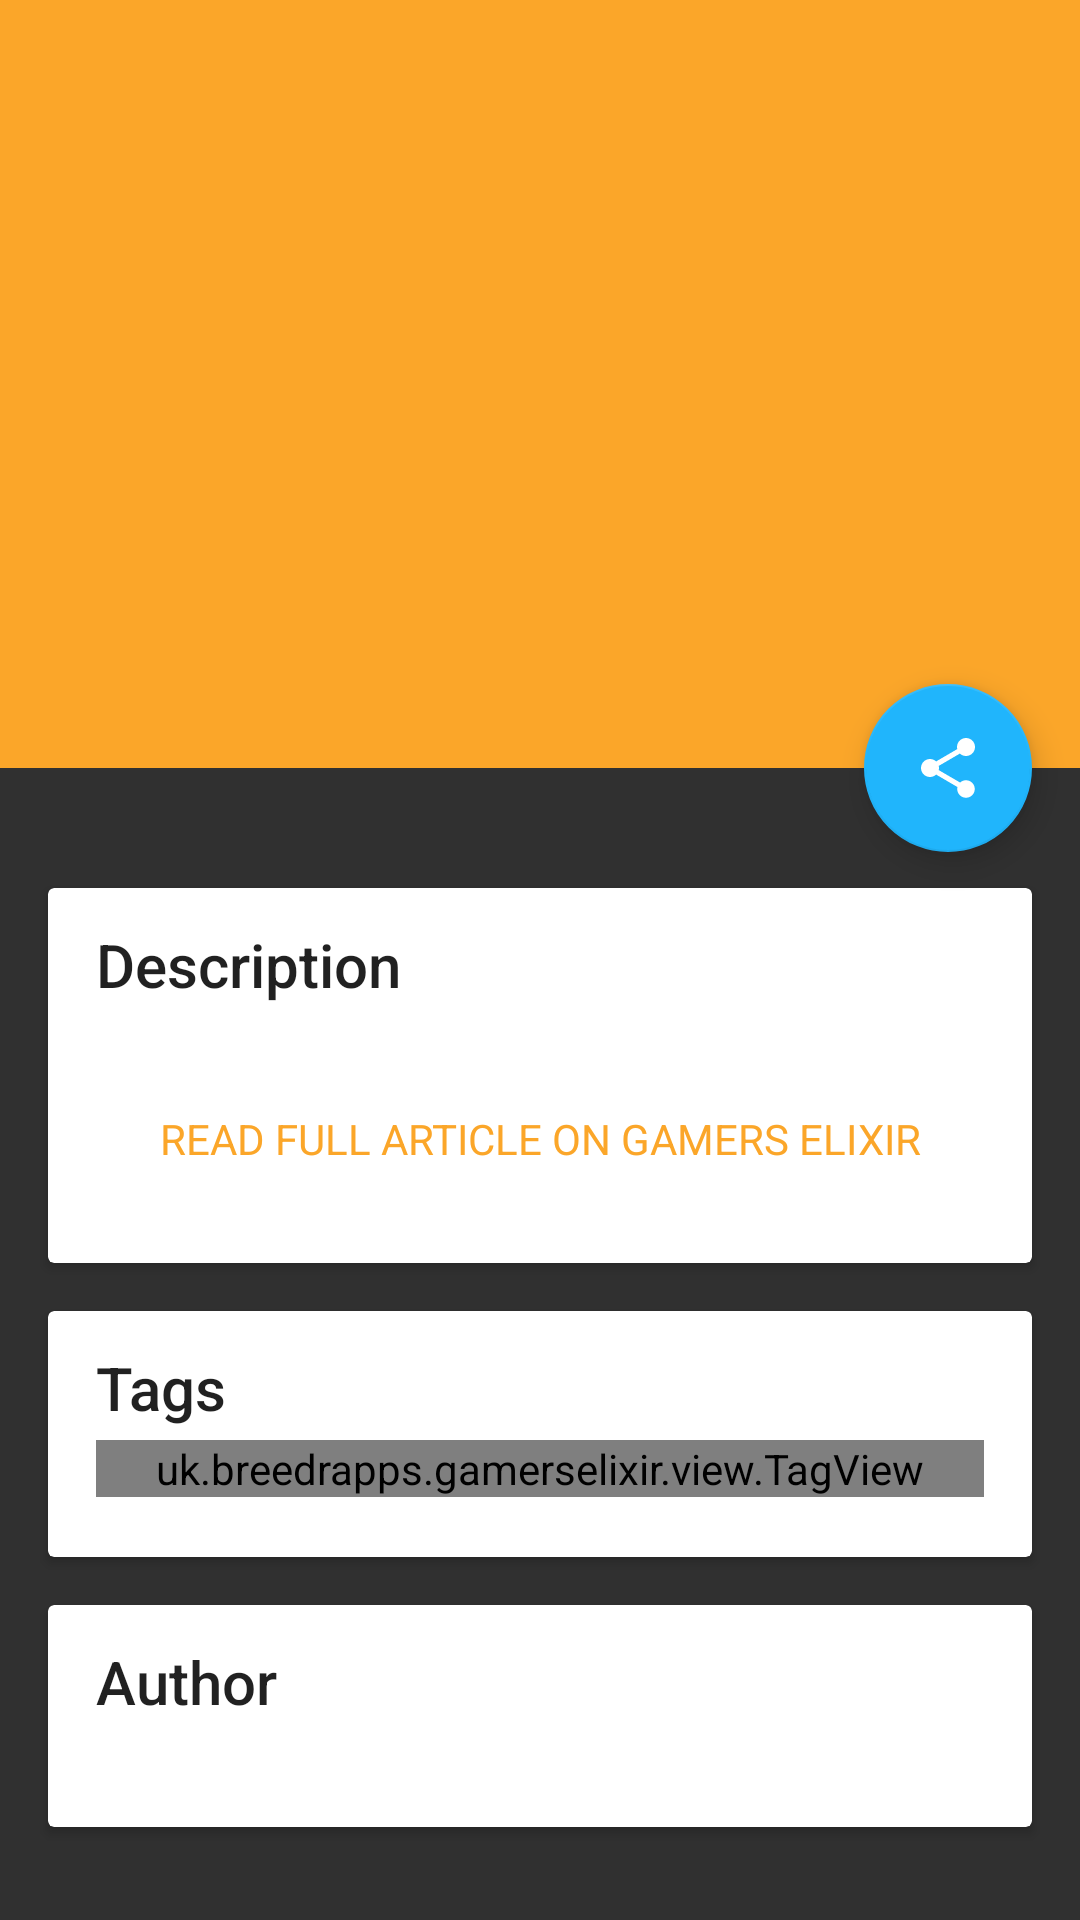

Icon click points for this 1080px×1920px phone screenshot, format (x,y):
share: (948,768)
